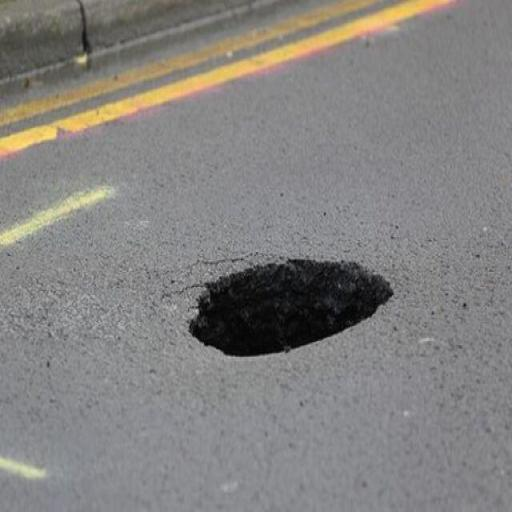Concentric_Crack: (189, 259, 393, 355)
